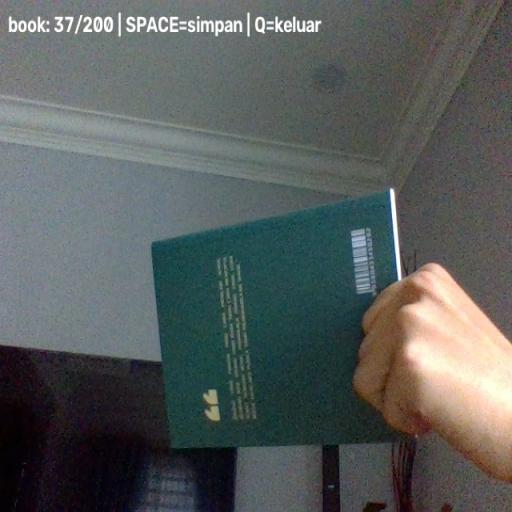Book: (150, 188, 408, 448)
